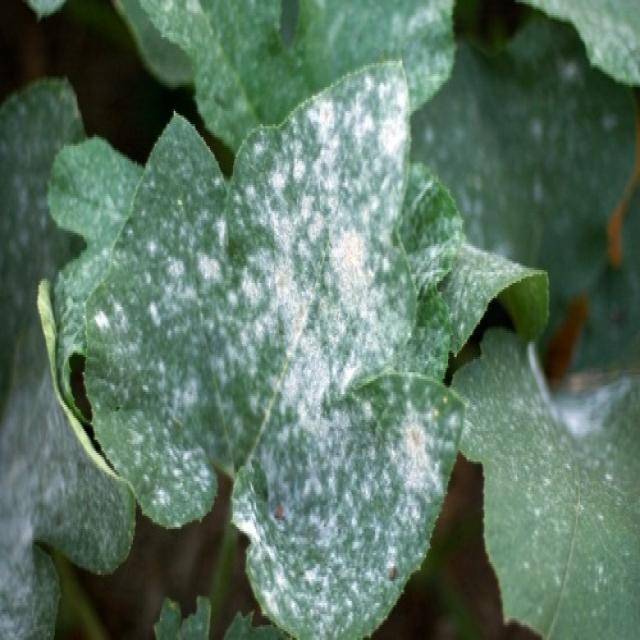Powdery Mildew: (222, 57, 462, 636)
